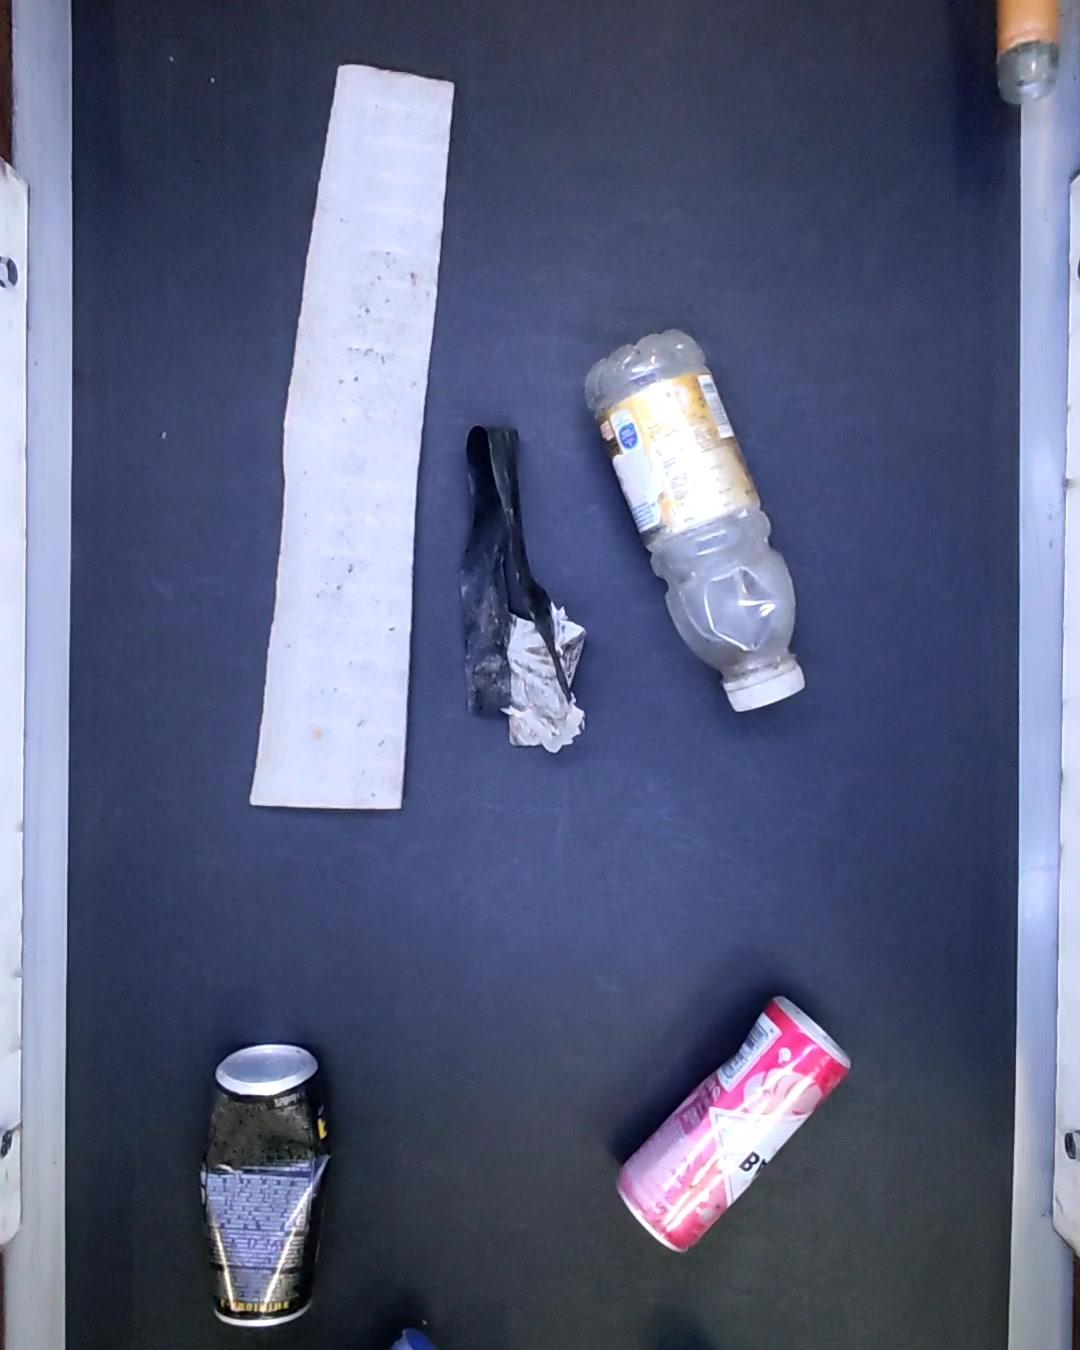Drankblikjes: (615, 995, 850, 1255), (191, 1040, 324, 1337)
Drankflessen - 1-2 liter: (581, 326, 802, 721)
